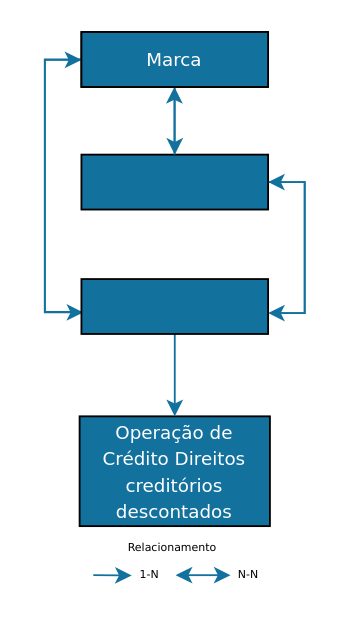
The diagram is 351 pixels wide and 624 high, and some of its shapes have lost their labels. Here are the shapes that lost their labels. From the top down, the centre of each, then its label:
At pixel 174 181: "Instituição".
At pixel 174 305: "Cliente PN e PJ".
